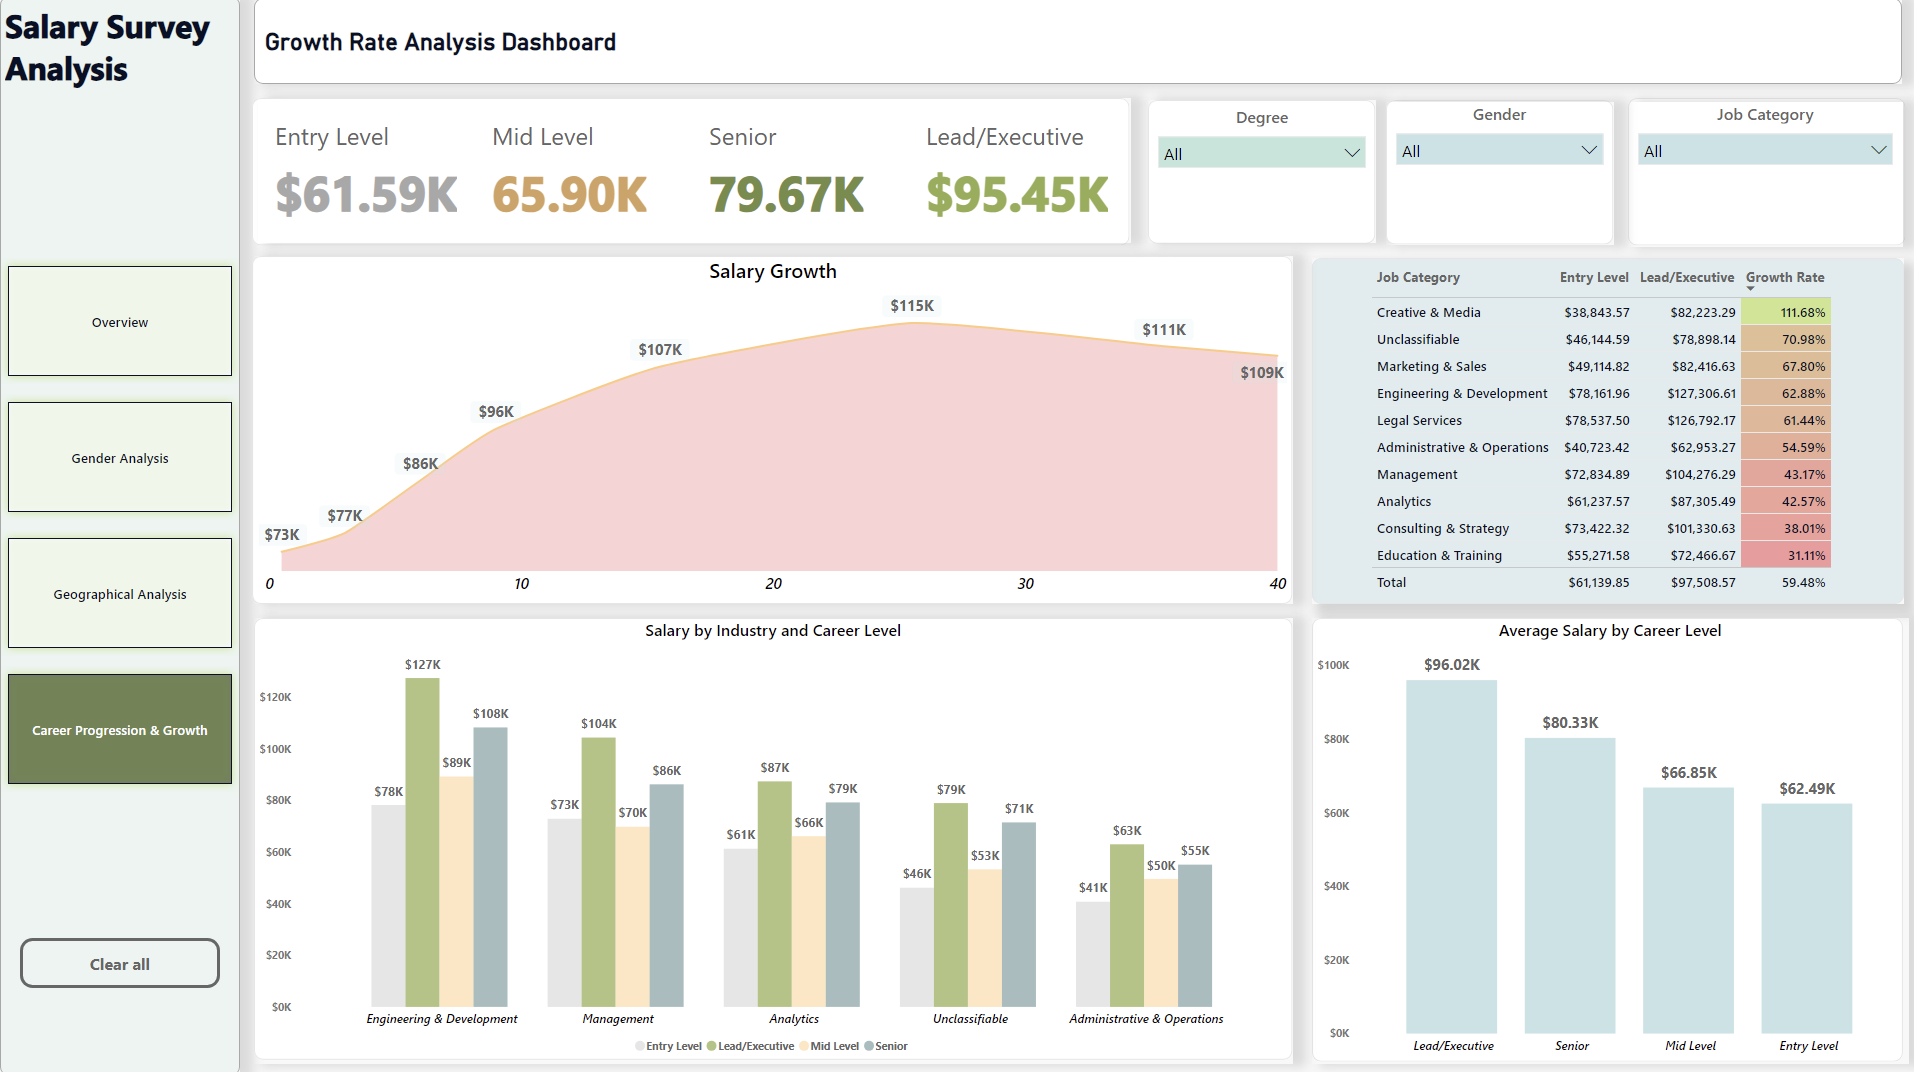

The page's visual inventory and layout, read from the dashboard file:
{"tool":"powerbi","page":{"name":"Career Progression & Growth","canvas":[1920,1080],"ordinal":3},"visuals":[{"type":"shape","box":[0,0,240,1080],"z":0},{"type":"shape","box":[1312,262,592,346],"z":1000},{"type":"shape","box":[1311.9,621.5,590.9,443.7],"z":2000},{"type":"shape","box":[252.5,102.5,877.5,147.5],"z":3000},{"type":"shape","box":[252.4,260.1,1040.3,348],"z":4000},{"type":"shape","box":[254,2,1648,86],"z":5000},{"type":"textbox","box":[260,25,457.5,62.5],"z":6000},{"type":"cardVisual","fields":{"Data":["project_cleaned_v2 0.Entry Level","project_cleaned_v2 0.Mid Level","project_cleaned_v2 0.Senior","project_cleaned_v2 0.Lead/Executive"]},"box":[257.5,102.5,872.5,145],"z":7000},{"type":"shape","box":[254.3,621.5,1038.4,441.8],"z":8000},{"type":"clusteredColumnChart","title":"Salary by Industry and Career Level","fields":{"Y":["Avg(project_cleaned_v2 0.annual_salary_usd)"],"Category":["project_cleaned_v2 0.job_category"],"Series":["project_cleaned_v2 0.career_level"]},"box":[254.3,621.5,1038.4,445.6],"z":9000},{"type":"shape","box":[1148.3,103.6,227.3,143.6],"z":10000},{"type":"slicer","title":"Degree","fields":{"Values":["project_cleaned_v2 0.degree"]},"box":[1148.3,104.5,228.2,142.7],"z":11000},{"type":"shape","box":[1627.5,102.5,277.5,147.5],"z":12000},{"type":"shape","box":[1386.5,103.6,227.3,144.5],"z":13000},{"type":"slicer","title":"Job Category","fields":{"Values":["project_cleaned_v2 0.job_category"]},"box":[1627.5,105,275,145],"z":14000},{"type":"slicer","title":"Gender","fields":{"Values":["project_cleaned_v2 0.gender"]},"box":[1386.5,105.5,227.3,142.7],"z":15000},{"type":"clusteredColumnChart","title":"Average Salary by Career Level","fields":{"Y":["Avg(project_cleaned_v2 0.annual_salary_usd)"],"Category":["project_cleaned_v2 0.career_level"]},"box":[1311.9,621.5,596.7,445.6],"z":16000},{"type":"tableEx","title":"Gender","fields":{"Values":["project_cleaned_v2 0.job_category","project_cleaned_v2 0.Entry Level","project_cleaned_v2 0.Lead/Executive","project_cleaned_v2 0.Growth Rate"]},"box":[1365,262,486,346],"z":17000},{"type":"areaChart","title":"Salary Growth","fields":{"Category":["project_cleaned_v2 0.overall_exp"],"Y":["Avg(project_cleaned_v2 0.annual_salary_usd)"]},"box":[254.3,260.1,1038.4,348],"z":18000},{"type":"pageNavigator","box":[0,262.5,240,537.5],"z":19000},{"type":"textbox","box":[0,2.5,240,132.5],"z":20000},{"type":"actionButton","box":[20,942.5,200,50],"z":21000}]}

Visuals, with their boxes on the page's 1920x1080 design canvas (x1, y1, x2, y2). These are canvas units, not pixel positions in the 1914x1072 screenshot, which may show the page scaled, cropped or inside an application window:
shape: 0, 0, 240, 1080
shape: 1312, 262, 1904, 608
shape: 1312, 622, 1903, 1065
shape: 252, 102, 1130, 250
shape: 252, 260, 1293, 608
shape: 254, 2, 1902, 88
textbox: 260, 25, 718, 88
cardVisual - project_cleaned_v2 0.Entry Level x project_cleaned_v2 0.Mid Level: 258, 102, 1130, 248
shape: 254, 622, 1293, 1063
"Salary by Industry and Career Level" clusteredColumnChart: 254, 622, 1293, 1067
shape: 1148, 104, 1376, 247
"Degree" slicer: 1148, 104, 1376, 247
shape: 1628, 102, 1905, 250
shape: 1386, 104, 1614, 248
"Job Category" slicer: 1628, 105, 1902, 250
"Gender" slicer: 1386, 106, 1614, 248
"Average Salary by Career Level" clusteredColumnChart: 1312, 622, 1909, 1067
"Gender" tableEx: 1365, 262, 1851, 608
"Salary Growth" areaChart: 254, 260, 1293, 608
pageNavigator: 0, 262, 240, 800
textbox: 0, 2, 240, 135
actionButton: 20, 942, 220, 992
